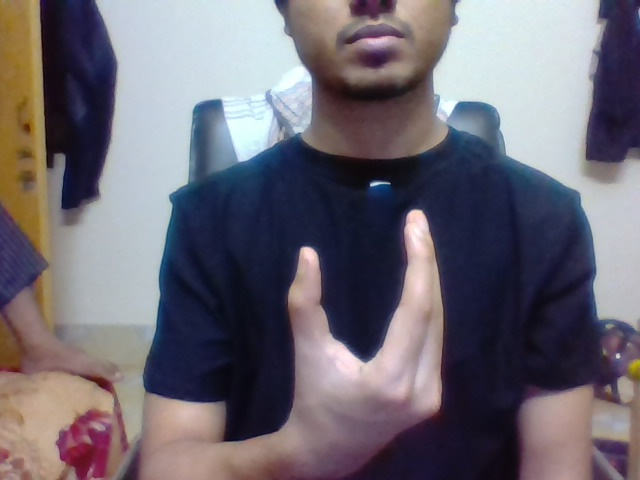U: (274, 199, 456, 378)
